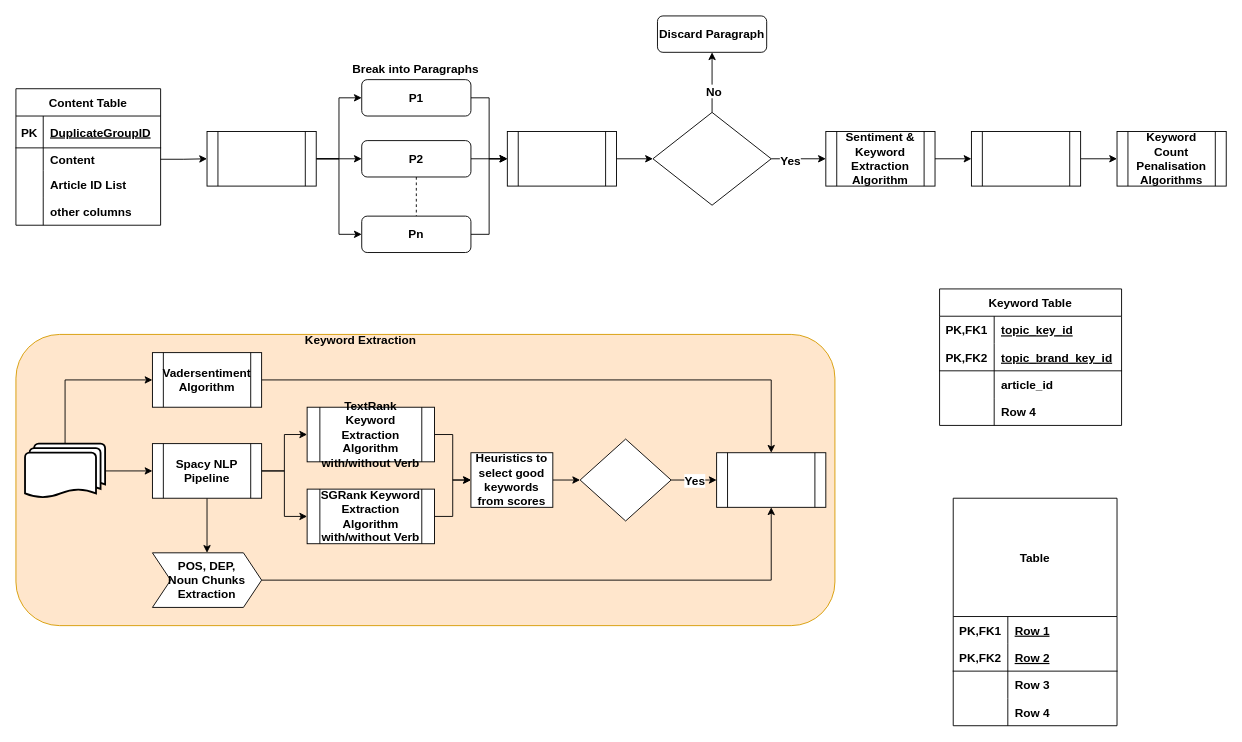
This 1242x742 diagram has some shape labels left out. The centre of each missing label's shape, as x and y in pixels:
"Chunking Algorithm" goes at (x=261, y=158).
"Concat" goes at (x=771, y=479).
"Does Paragraph contains Topic ?" goes at (x=711, y=158).
"Is keyword ngram range>10?" goes at (x=625, y=479).
"Keyword Aggregation Algorithm" goes at (x=1026, y=158).
"Paragraphs with Topics" goes at (x=65, y=470).
"Topic Extraction Algorithm" goes at (x=561, y=158).
